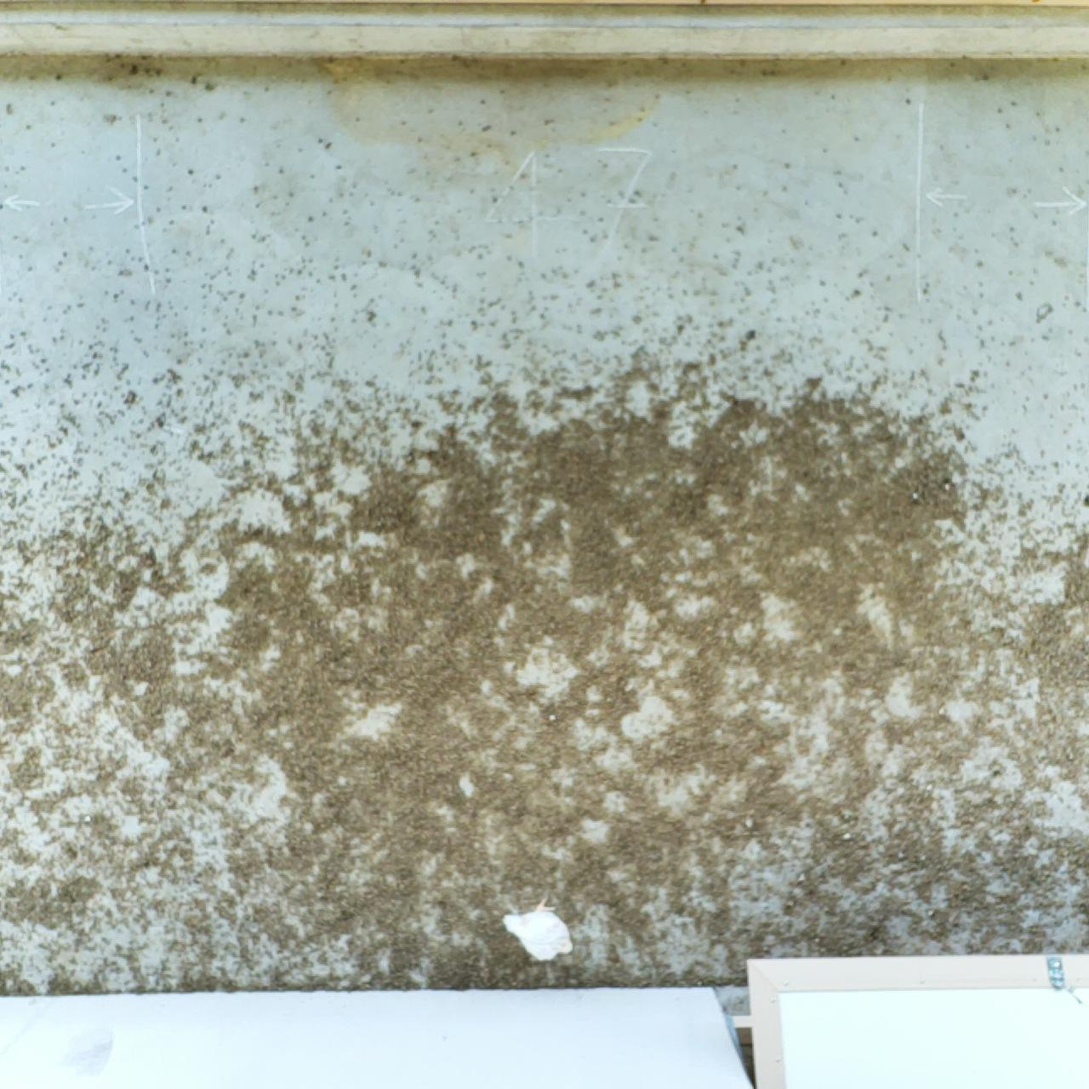chicken: (500, 894, 575, 965)
